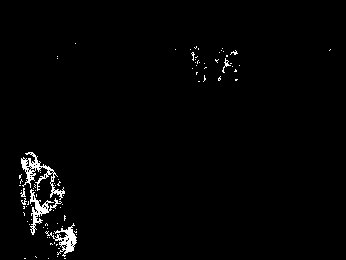person: (19, 149, 78, 258)
